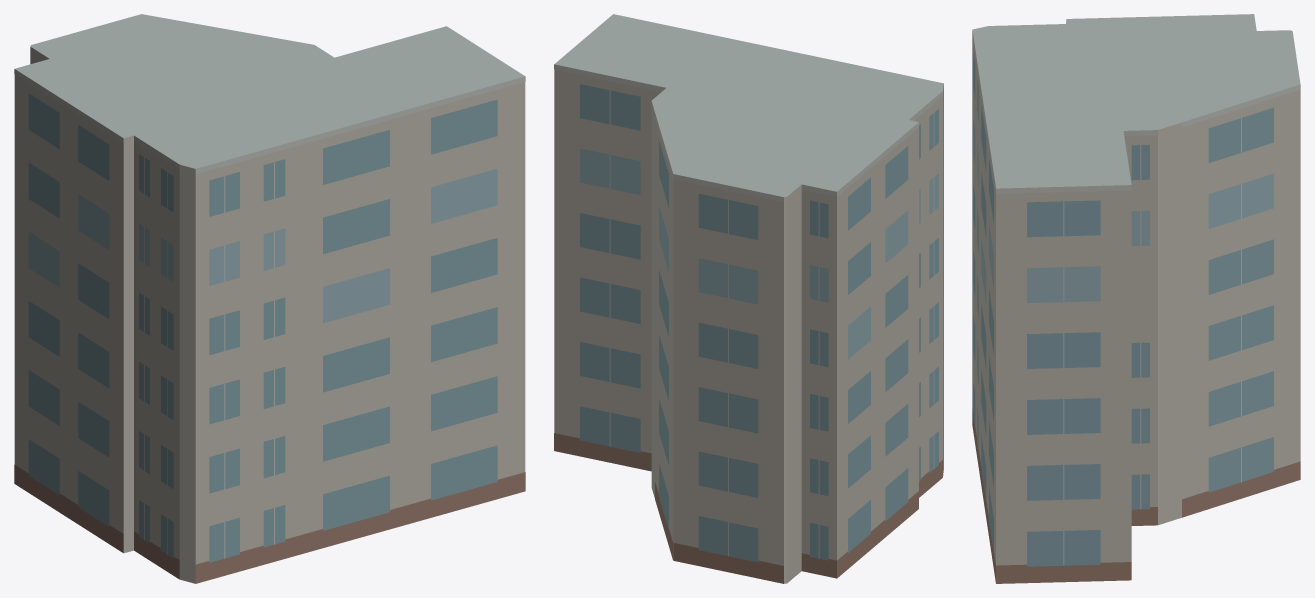
The model's file is survey-upis-32705870.glb.
3 renders of one model, left to right at view 1: azimuth 30°, elevation 25°; view 2: azimuth 150°, elevation 25°; view 3: azimuth 270°, elevation 25°, orthographic. The views are drawn at different scales.
Visible parts, largest first — view 1: survey-upis-32705870.tmp; view 2: survey-upis-32705870.tmp; view 3: survey-upis-32705870.tmp.
Part boxes in pixels (x1,y1,x2,y2): survey-upis-32705870.tmp: (14,14,525,583); survey-upis-32705870.tmp: (554,14,943,583); survey-upis-32705870.tmp: (972,14,1300,583).
Size of the model in its own units: 17.34 by 18.3 by 13.78.
